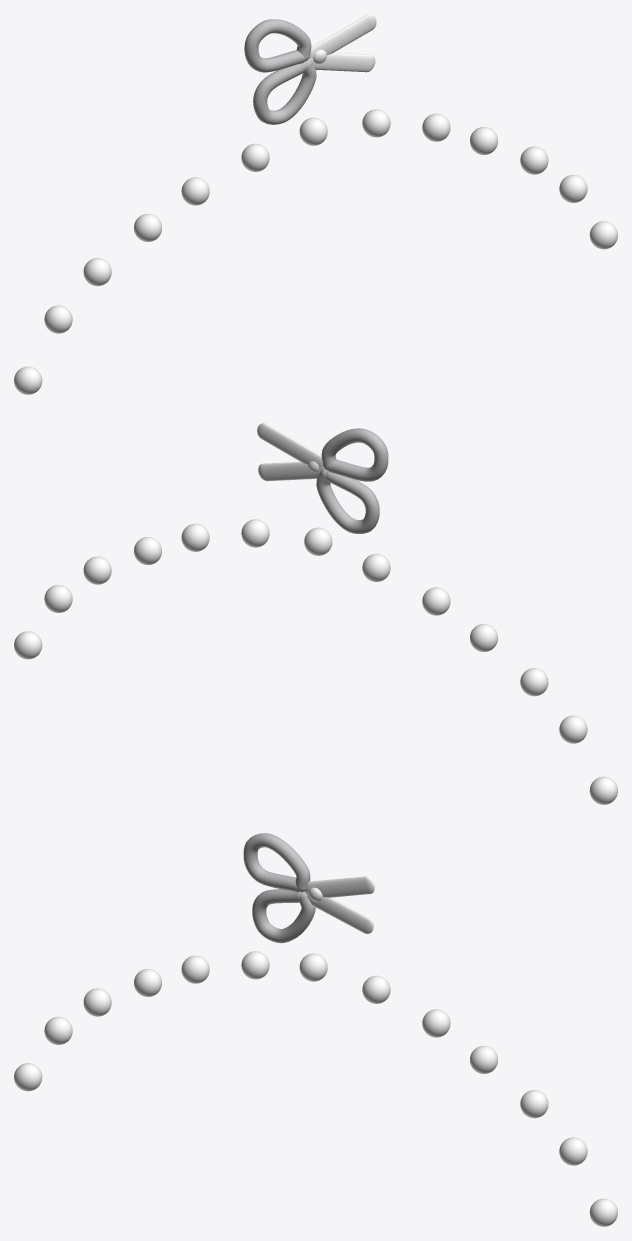
Rendered from disconnected.fbx.
3 renders of one model, top to bottom at view 1: azimuth 30°, elevation 25°; view 2: azimuth 150°, elevation 25°; view 3: azimuth 330°, elevation 25°, orthographic.
Visible parts, largest first — view 1: root (×13), node_id32, node_id30, node_id34, node_id36; view 2: root (×13), node_id32, node_id30, node_id34, node_id36; view 3: root (×13), node_id30, node_id32, node_id34, node_id36.
Part boxes in pixels (left/top/right/bottom): root (×13): left=14, top=109, right=617, bottom=394; node_id32: left=253, top=59, right=316, bottom=124; node_id30: left=244, top=19, right=311, bottom=72; node_id34: left=309, top=14, right=376, bottom=58; node_id36: left=308, top=52, right=375, bottom=72; root (×13): left=14, top=519, right=617, bottom=804; node_id32: left=316, top=468, right=379, bottom=533; node_id30: left=321, top=428, right=388, bottom=481; node_id34: left=257, top=423, right=323, bottom=467; node_id36: left=258, top=461, right=323, bottom=481; root (×13): left=14, top=951, right=617, bottom=1226; node_id30: left=243, top=833, right=310, bottom=892; node_id32: left=252, top=889, right=315, bottom=943; node_id34: left=305, top=876, right=374, bottom=897; node_id36: left=304, top=890, right=373, bottom=933.
Bounding box in the file's own units: 0.6129 × 0.3072 × 0.025.
Materials: 18 (18 with a texture image).
